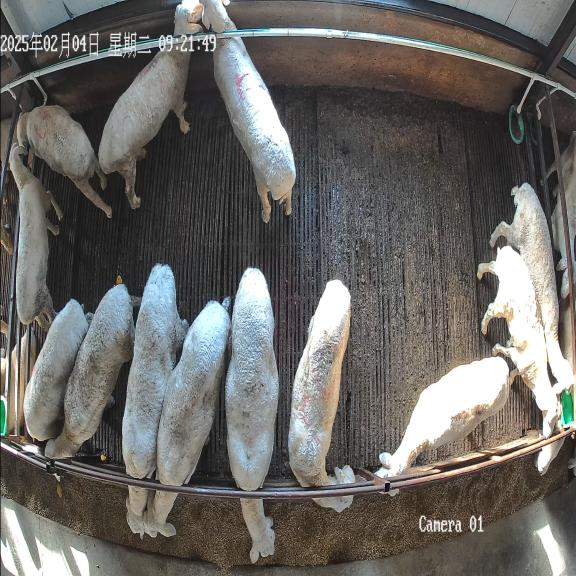drinking: (17, 105, 112, 217)
eating: (145, 297, 231, 537), (122, 263, 189, 537), (225, 268, 279, 563)
stand: (98, 0, 204, 208), (198, 0, 296, 223), (490, 183, 574, 388), (45, 283, 141, 459), (288, 280, 358, 512), (379, 357, 509, 477), (481, 246, 560, 437), (9, 144, 62, 332), (24, 299, 93, 441)
